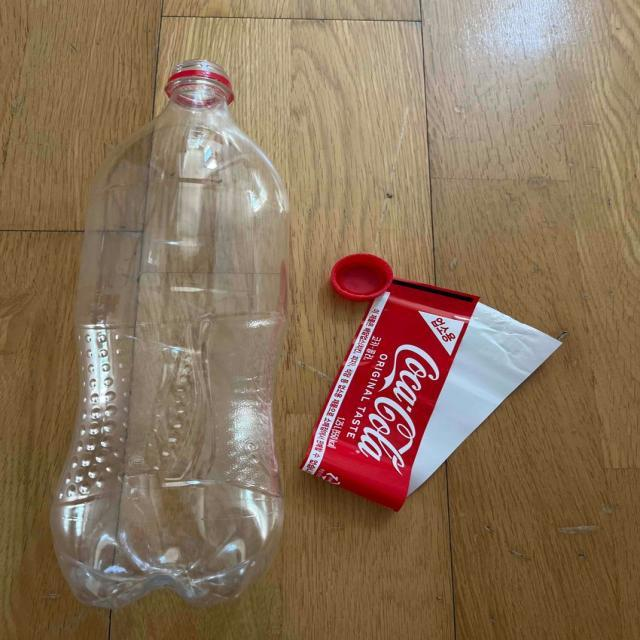chai: (48, 60, 292, 613)
